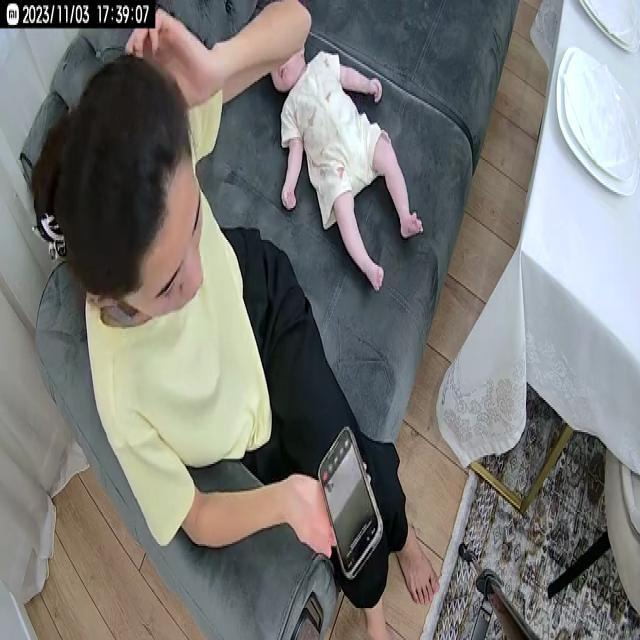baby: (267, 29, 425, 293)
